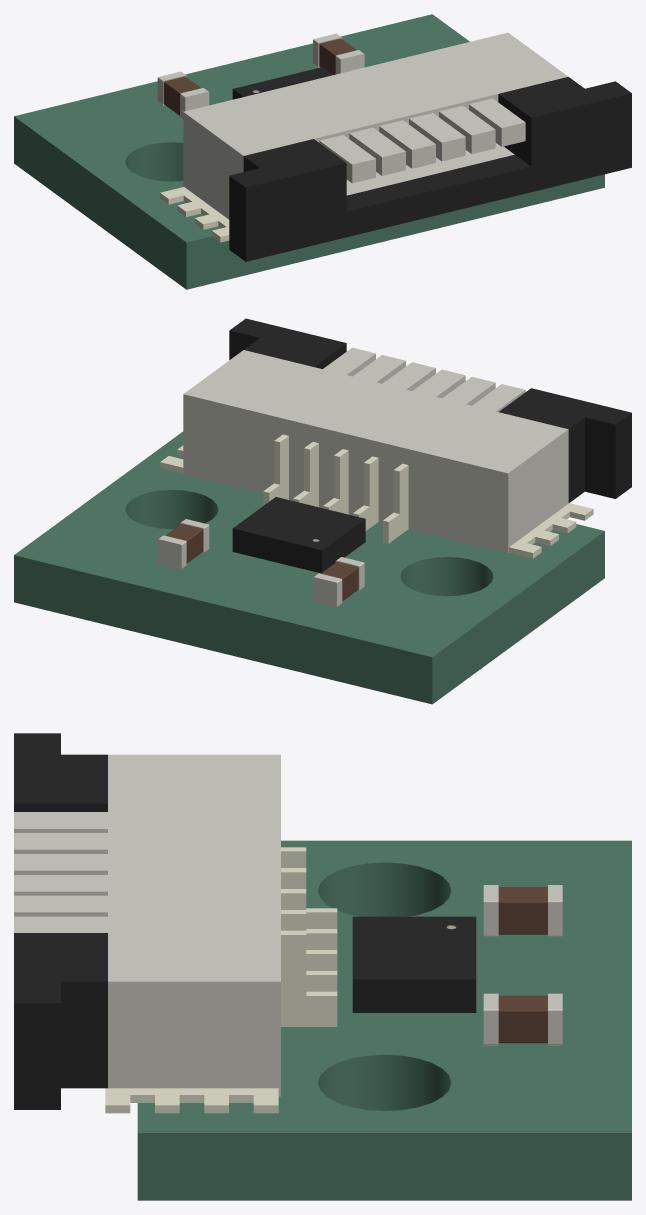
Rendered from petvest-imu-node.glb.
3 views of the same model, one above another, from view 1: azimuth 30°, elevation 25°; view 2: azimuth 150°, elevation 25°; view 3: azimuth 270°, elevation 25° (orthographic). The views are drawn at different scales.
Parts seen in each view (by area): view 1: =>[0:1:1:7], =>[0:1:1:8], =>[0:1:1:5] (×2), =>[0:1:1:3]; view 2: =>[0:1:1:8], =>[0:1:1:7], =>[0:1:1:3], =>[0:1:1:5] (×2); view 3: =>[0:1:1:8], =>[0:1:1:7], =>[0:1:1:3], =>[0:1:1:5] (×2).
Boxes of the visible parts, x1=… form: =>[0:1:1:7]: x1=160, y1=32, x2=631, y2=261; =>[0:1:1:8]: x1=14, y1=14, x2=604, y2=289; =>[0:1:1:5] (×2): x1=157, y1=33, x2=364, y2=119; =>[0:1:1:3]: x1=232, y1=67, x2=332, y2=99; =>[0:1:1:8]: x1=14, y1=431, x2=604, y2=704; =>[0:1:1:7]: x1=160, y1=318, x2=631, y2=558; =>[0:1:1:3]: x1=232, y1=497, x2=365, y2=573; =>[0:1:1:5] (×2): x1=157, y1=519, x2=364, y2=607; =>[0:1:1:8]: x1=137, y1=840, x2=631, y2=1200; =>[0:1:1:7]: x1=14, y1=733, x2=337, y2=1113; =>[0:1:1:3]: x1=352, y1=916, x2=476, y2=1012; =>[0:1:1:5] (×2): x1=483, y1=885, x2=562, y2=1045.
Size of the model in its own units: 0.014 by 0.00415 by 0.0125.
